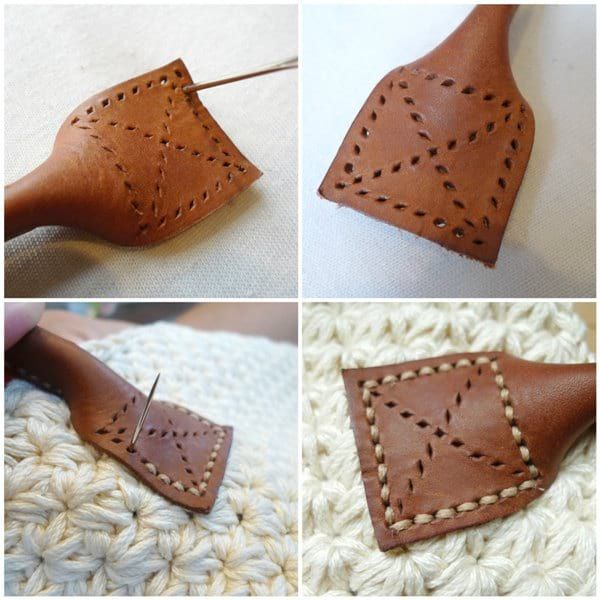cuero: (2, 4, 600, 551)
